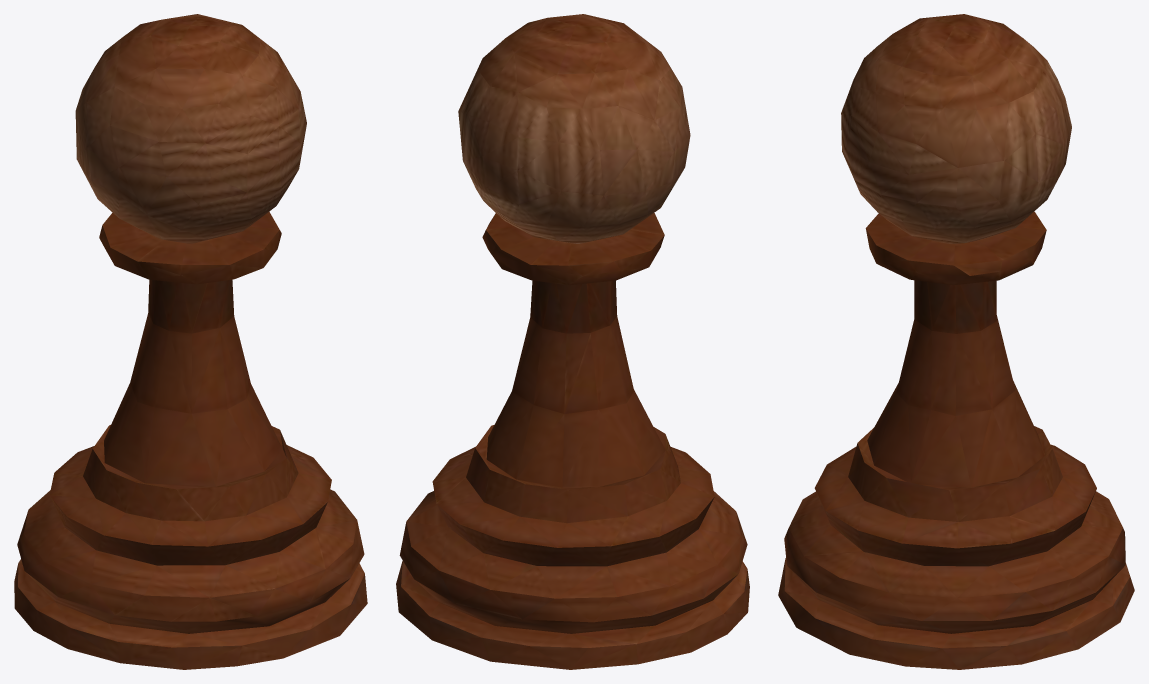
Rendered from chesspawn.glb.
3 renders of one model, left to right at view 1: azimuth 30°, elevation 25°; view 2: azimuth 150°, elevation 25°; view 3: azimuth 270°, elevation 25°, orthographic.
Visible parts, largest first — view 1: Mesh_0; view 2: Mesh_0; view 3: Mesh_0.
Part boxes in pixels (x1,y1,x2,y2): Mesh_0: (14,14,367,669); Mesh_0: (396,14,749,669); Mesh_0: (778,14,1134,669).
Bounding box in the file's own units: 4.28 × 7.5 × 4.27.
1 material, 1 textured.
